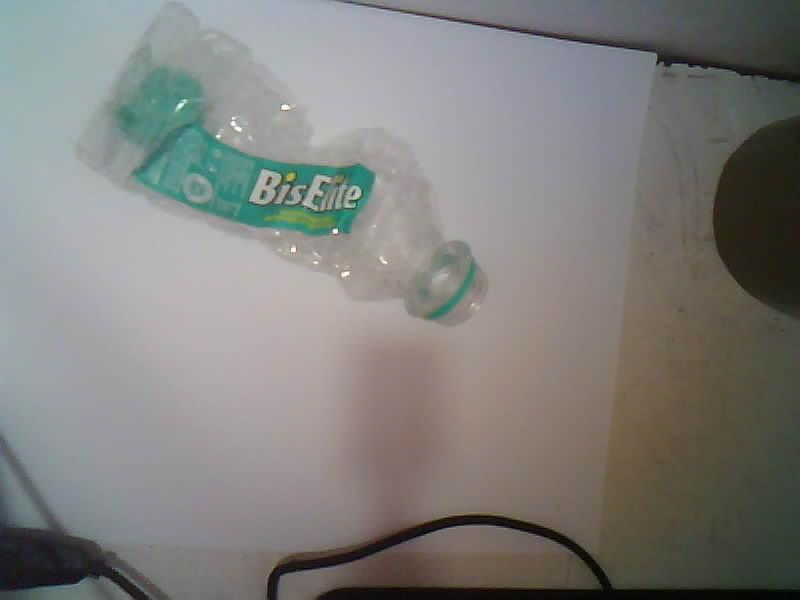non-biodegradable: (83, 5, 485, 324)
